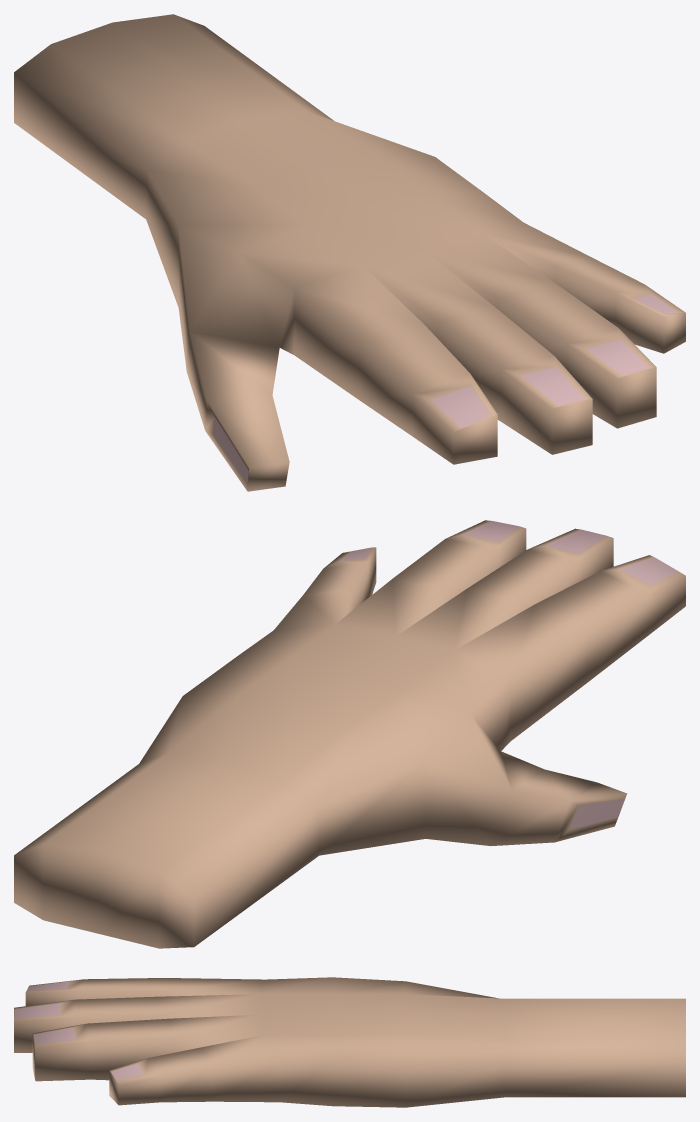
File: left hand.fbx
3 renders of one model, top to bottom at view 1: azimuth 30°, elevation 25°; view 2: azimuth 150°, elevation 25°; view 3: azimuth 270°, elevation 25°, orthographic. The views are drawn at different scales.
Parts seen in each view (by area): view 1: Cube.001; view 2: Cube.001; view 3: Cube.001.
Part boxes in pixels (x1,y1,x2,y2): Cube.001: (14, 14, 685, 491); Cube.001: (14, 520, 685, 948); Cube.001: (14, 977, 685, 1107).
Bounding box in the file's own units: 398 × 182 × 916.
